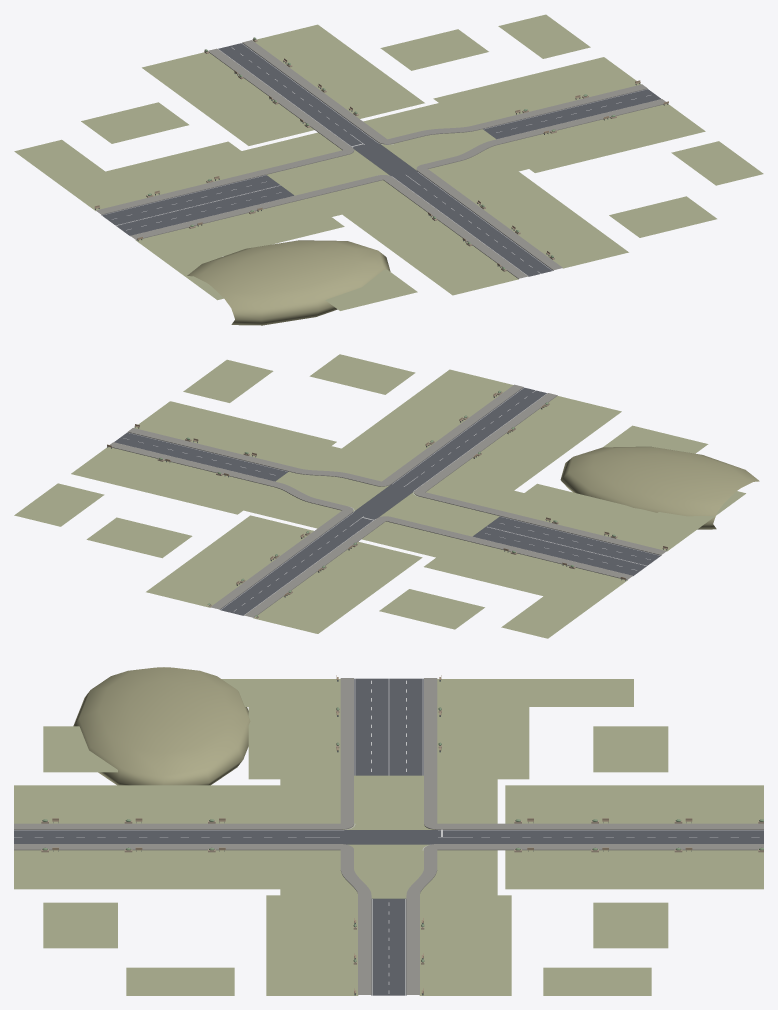
3 views of the same model, one above another, from view 1: azimuth 30°, elevation 25°; view 2: azimuth 150°, elevation 25°; view 3: azimuth 270°, elevation 25° (orthographic). The views are drawn at different scales.
Visible parts, largest first — view 1: static; view 2: static; view 3: static.
Part boxes in pixels (box(x1,y1,x2,y2)): static: box(14, 14, 763, 325); static: box(14, 354, 759, 638); static: box(14, 667, 763, 995).
Size of what is drawn, in the model's own units: 180 by 14.08 by 180.
